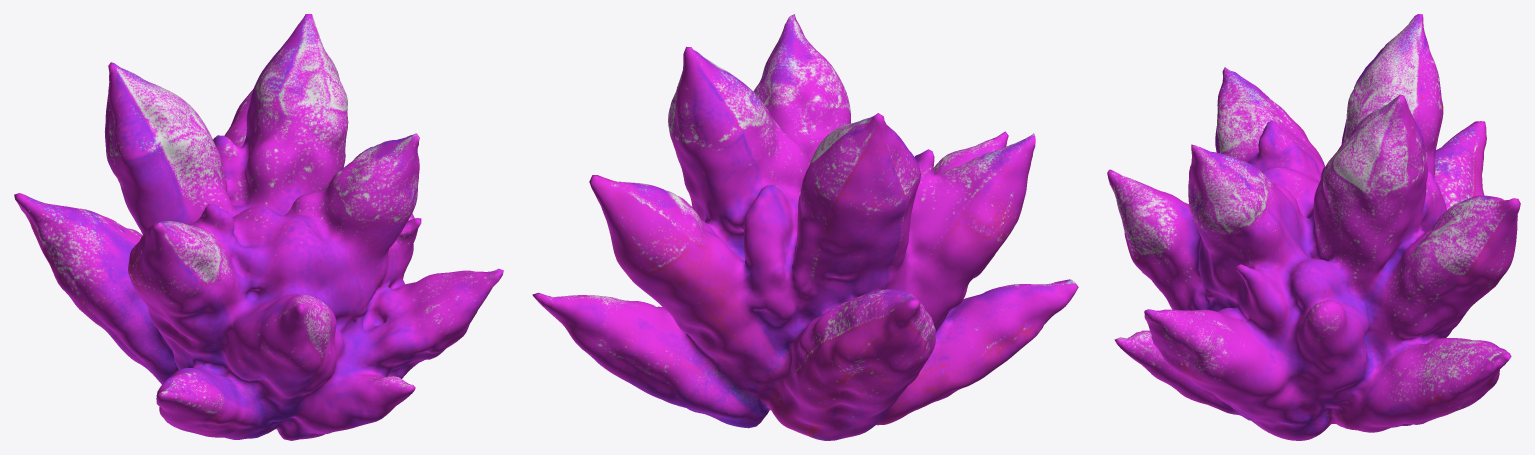
Rendered from wand.glb.
3 renders of one model, left to right at view 1: azimuth 30°, elevation 25°; view 2: azimuth 150°, elevation 25°; view 3: azimuth 270°, elevation 25°, orthographic. The views are drawn at different scales.
Visible parts, largest first — view 1: Mesh1; view 2: Mesh1; view 3: Mesh1.
Part boxes in pixels (left/top/right/bottom): Mesh1: left=14, top=14, right=503, bottom=440; Mesh1: left=532, top=14, right=1078, bottom=440; Mesh1: left=1107, top=14, right=1520, bottom=440.
Size of the model in its own units: 1.19 by 1.14 by 1.2.
1 material, 1 textured.
